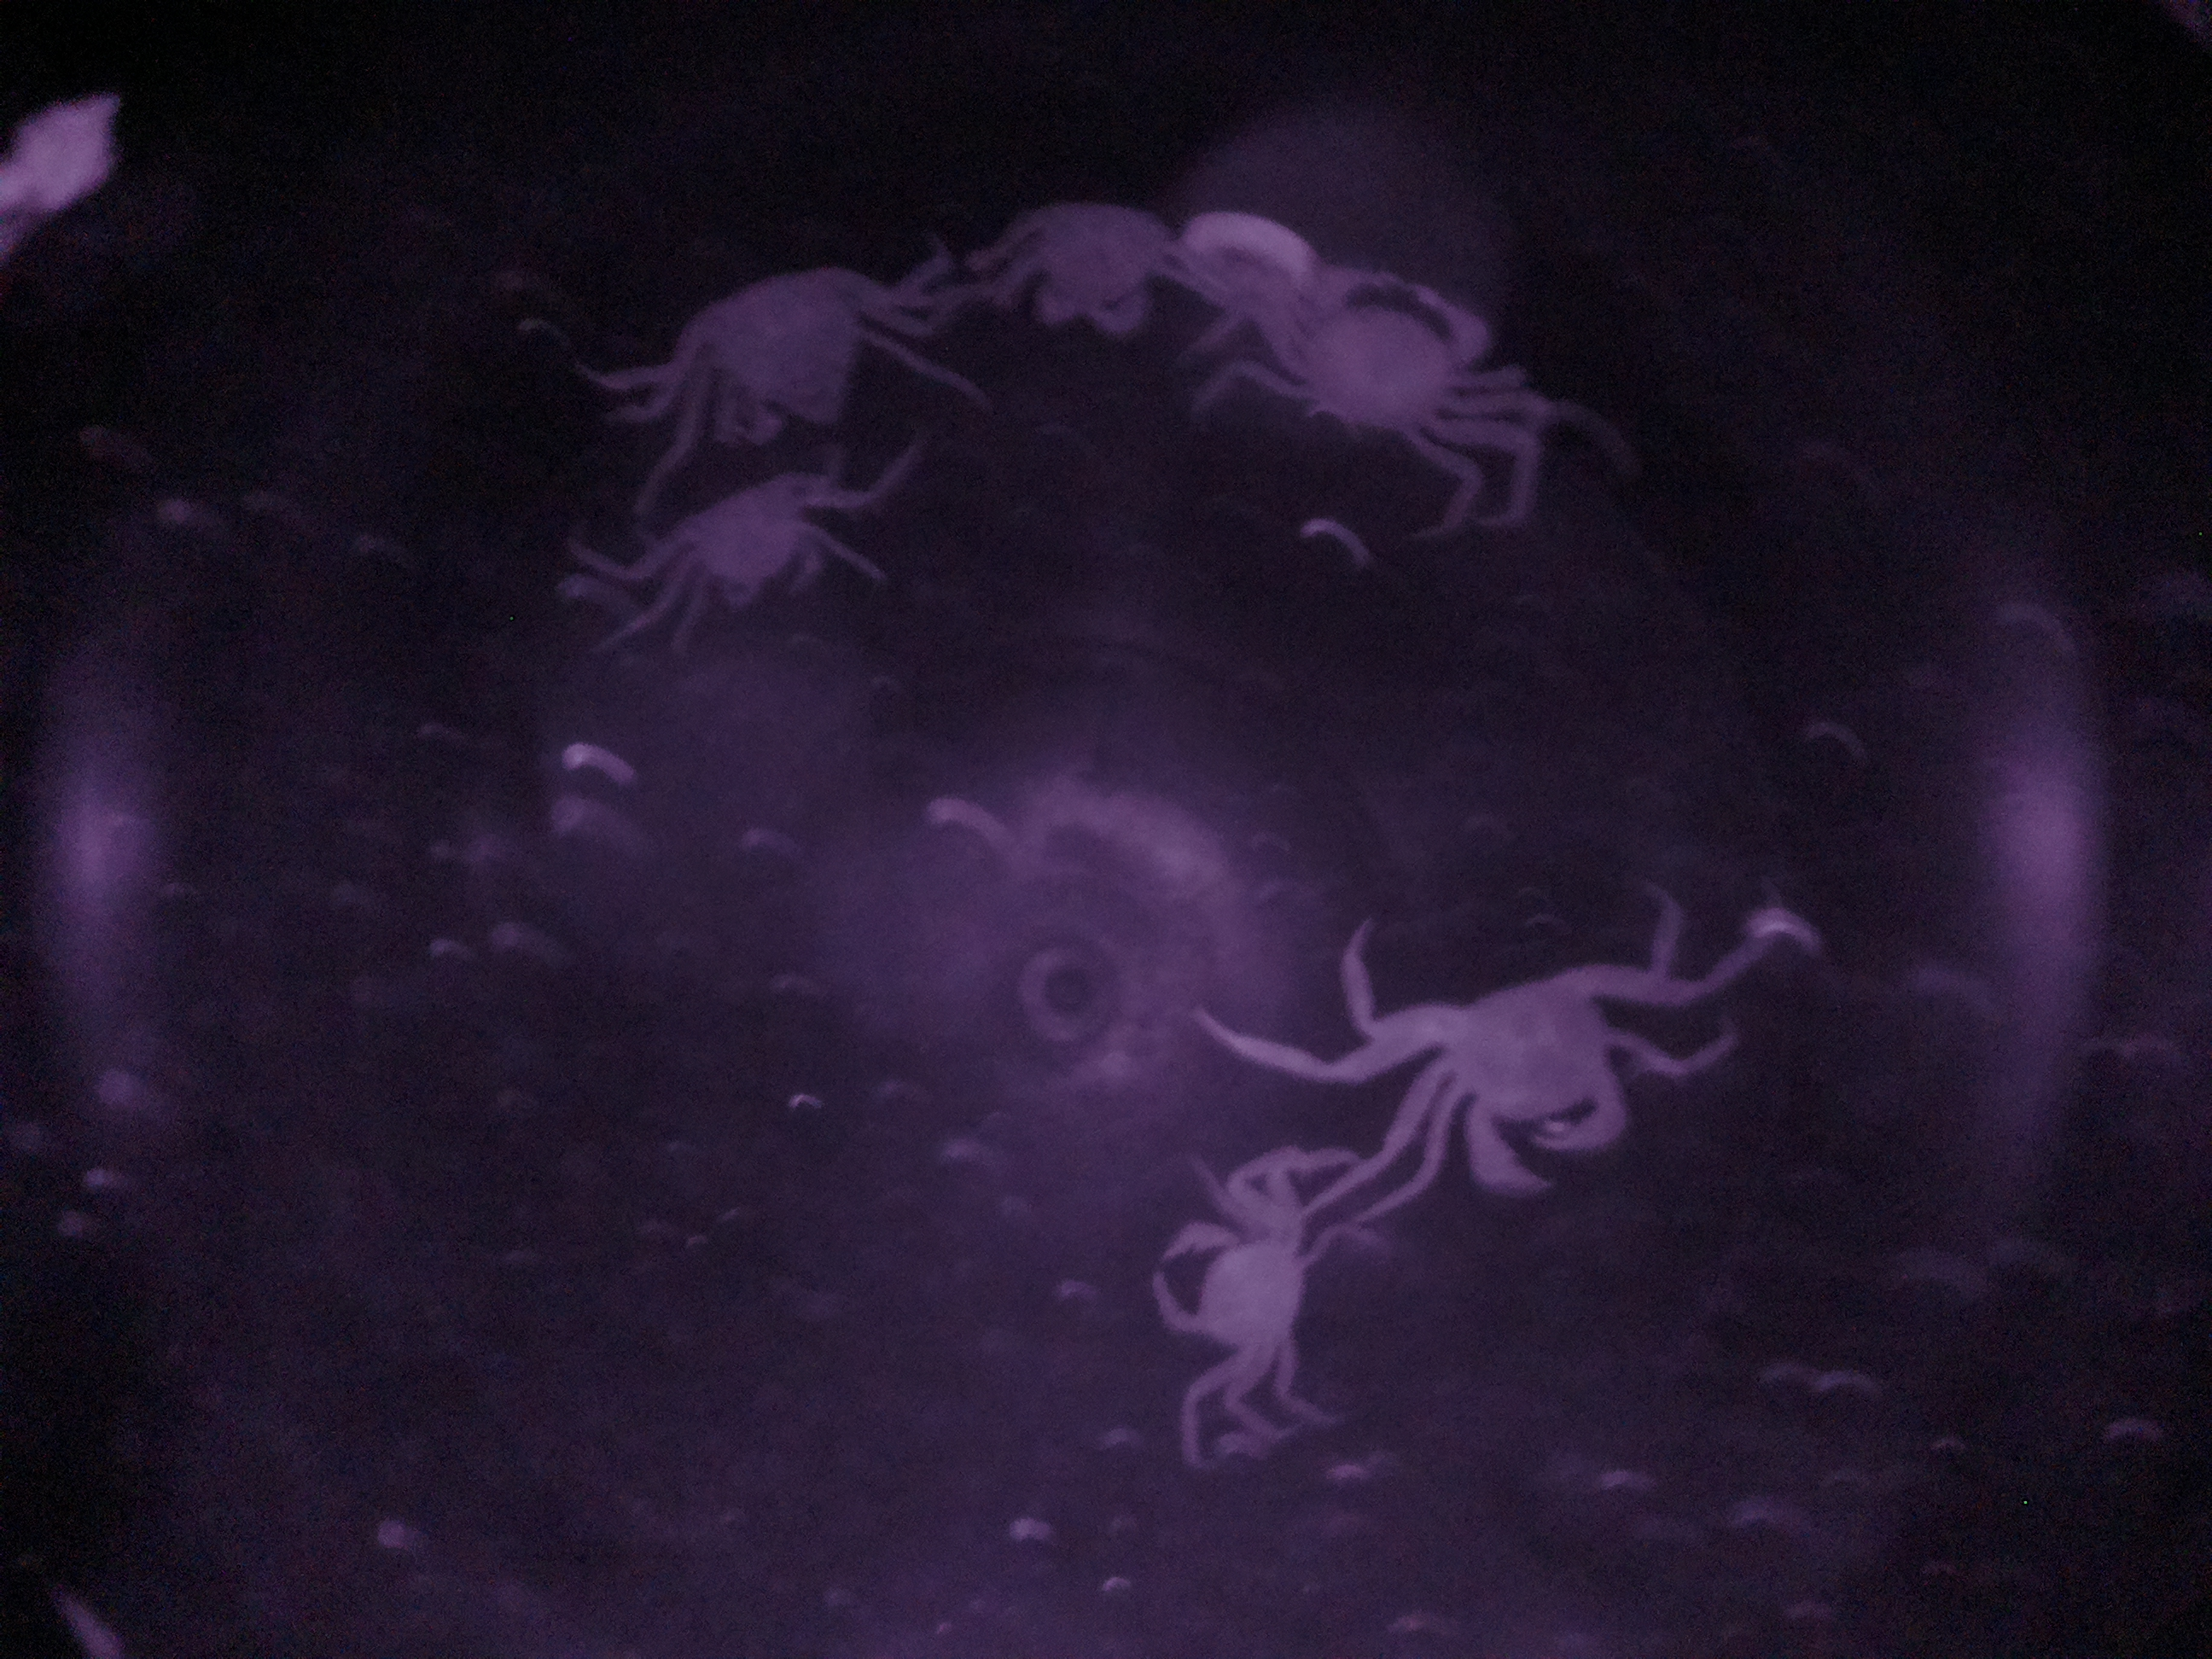Crab: (1381, 941, 1677, 1209), (1146, 1178, 1336, 1398)
